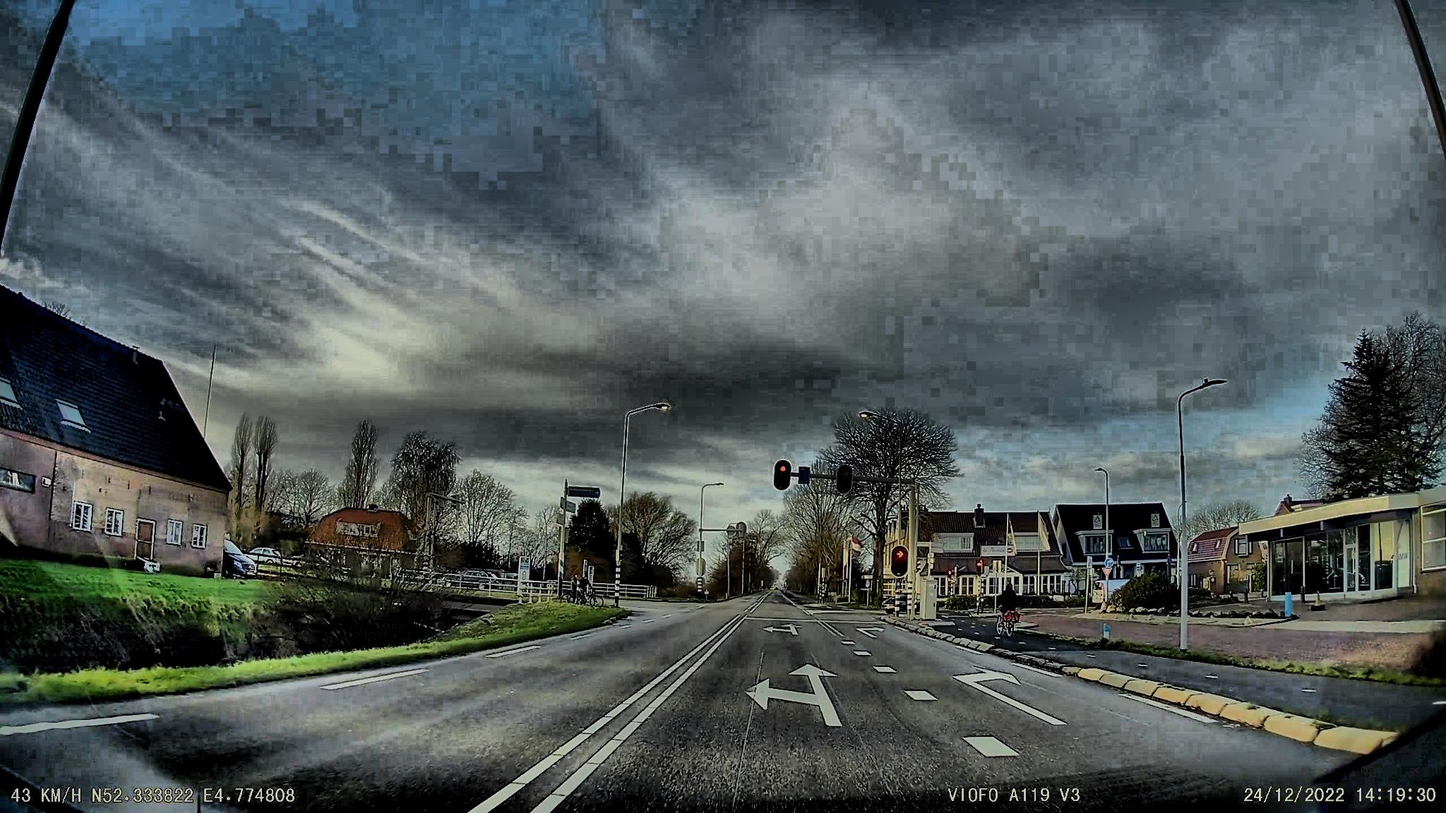Roads: (0, 609, 1415, 813)
